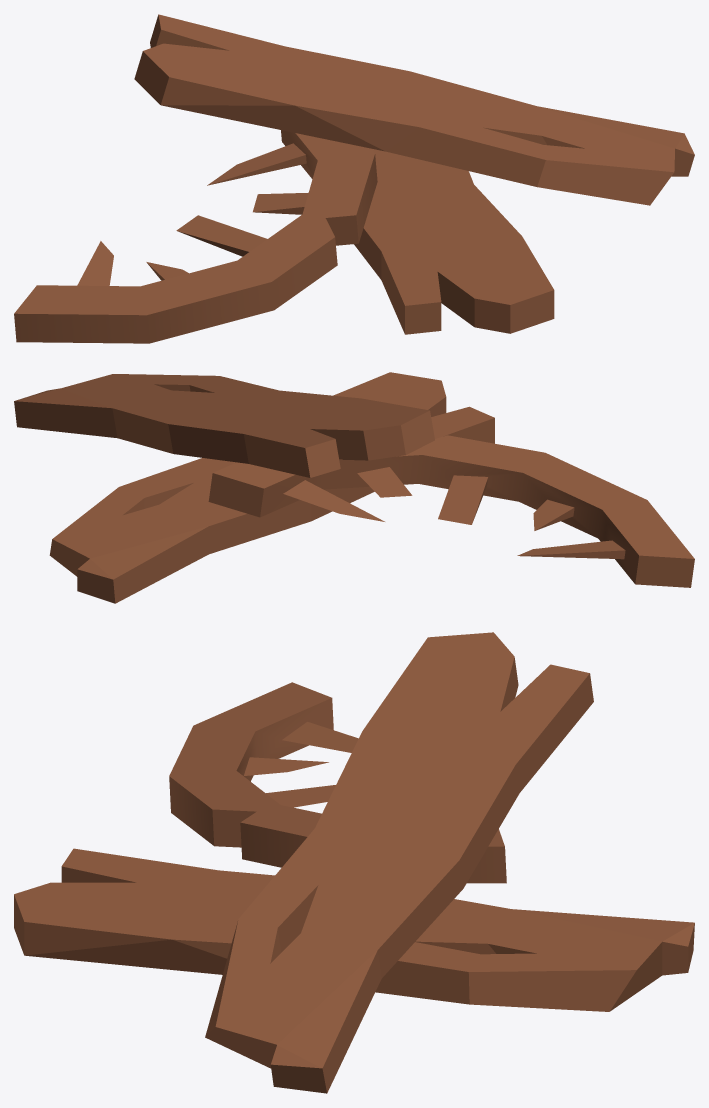
The model's file is ChonkTrümmerV4_optimiert.fbx.
The picture shows the model from 3 angles, top to bottom: view 1: azimuth 30°, elevation 25°; view 2: azimuth 150°, elevation 25°; view 3: azimuth 270°, elevation 25°; orthographic projection. The views are drawn at different scales.
Visible parts, largest first — view 1: TrümmerHaufen; view 2: TrümmerHaufen; view 3: TrümmerHaufen.
Boxes of the visible parts, x1,y1,x2,y2 form: TrümmerHaufen: [14, 14, 694, 343]; TrümmerHaufen: [14, 372, 694, 603]; TrümmerHaufen: [14, 632, 694, 1093].
Size of the model in its own units: 341 by 84.5 by 251.
